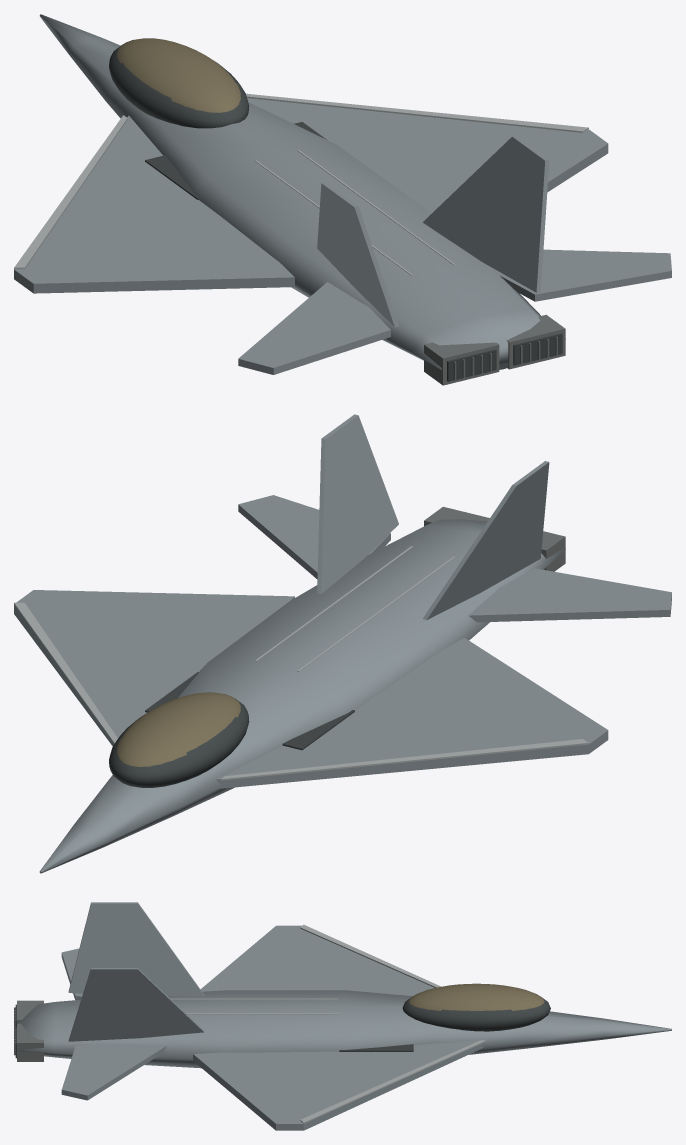
File: raptor.glb
3 views of the same model, one above another, from view 1: azimuth 30°, elevation 25°; view 2: azimuth 150°, elevation 25°; view 3: azimuth 270°, elevation 25° (orthographic). The views are drawn at different scales.
Visible parts, largest first — view 1: Fuselage, Wing L, Wing R, Vertical fin.001, Tailplane L, Canopy tinted glass, Tailplane R, Vertical fin, Canopy frame, Wing leading edge.001, Nozzle surround, Wing leading edge (+4 smaller); view 2: Fuselage, Wing L, Wing R, Vertical fin.001, Tailplane L, Vertical fin, Canopy tinted glass, Tailplane R, Canopy frame, Wing leading edge, Wing leading edge.001, Nozzle surround (+1 smaller); view 3: Fuselage, Wing R, Wing L, Vertical fin, Vertical fin.001, Tailplane R, Canopy tinted glass, Canopy frame, Wing leading edge.001, Wing leading edge, Nozzle surround.001, Tailplane L (+1 smaller).
Part boxes in pixels (x1,y1,x2,y2): Fuselage: [39, 14, 540, 369]; Wing L: [14, 115, 294, 293]; Wing R: [247, 98, 608, 213]; Vertical fin.001: [423, 135, 549, 292]; Tailplane L: [238, 282, 390, 374]; Canopy tinted glass: [117, 38, 240, 112]; Tailplane R: [491, 249, 671, 301]; Vertical fin: [317, 182, 398, 327]; Canopy frame: [109, 44, 249, 128]; Wing leading edge.001: [246, 93, 588, 132]; Nozzle surround: [424, 342, 499, 385]; Wing leading edge: [14, 115, 127, 269]; Fuselage: [39, 519, 565, 873]; Wing L: [216, 638, 608, 788]; Wing R: [14, 590, 294, 746]; Vertical fin.001: [317, 414, 398, 593]; Tailplane L: [468, 568, 671, 622]; Vertical fin: [422, 461, 549, 620]; Canopy tinted glass: [117, 692, 240, 766]; Tailplane R: [238, 495, 390, 579]; Canopy frame: [109, 698, 249, 787]; Wing leading edge: [221, 739, 588, 780]; Wing leading edge.001: [14, 602, 117, 743]; Nozzle surround: [541, 531, 565, 571]; Fuselage: [18, 990, 671, 1068]; Wing R: [193, 1040, 485, 1130]; Wing L: [200, 925, 434, 996]; Vertical fin: [68, 902, 204, 995]; Vertical fin.001: [68, 968, 203, 1041]; Tailplane R: [61, 1043, 166, 1100]; Canopy tinted glass: [408, 983, 544, 1010]; Canopy frame: [402, 996, 550, 1031]; Wing leading edge.001: [300, 1040, 486, 1123]; Wing leading edge: [300, 924, 440, 987]; Nozzle surround.001: [17, 1023, 43, 1061]; Tailplane L: [61, 948, 82, 999].
Size of the model in its own units: 13.56 by 3.77 by 19.03.
